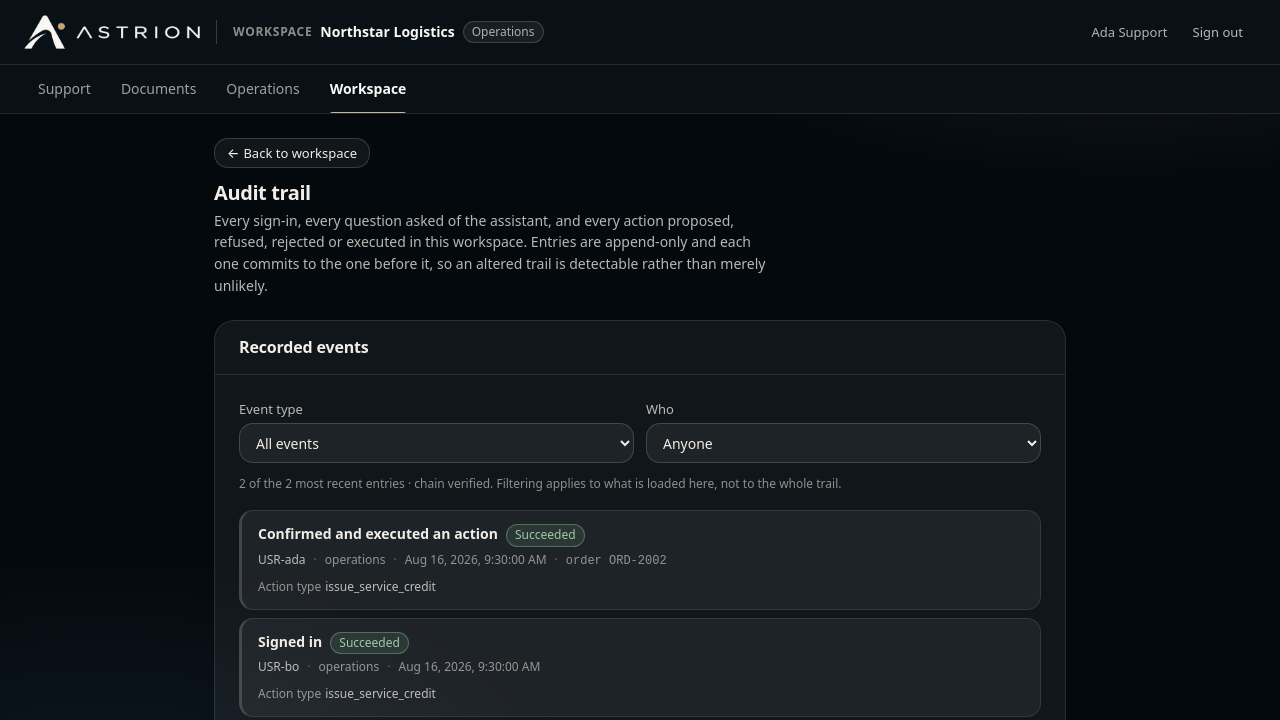
the audit trail › filters by who did it
The image size is (1280, 720).
Check: the text "Confirmed and executed an action" is shown, box [258,523,498,545]
Step 1. Select "USR-bo" in the dropdown labelled "Who" → x=844, y=443, box [646,423,1041,463]
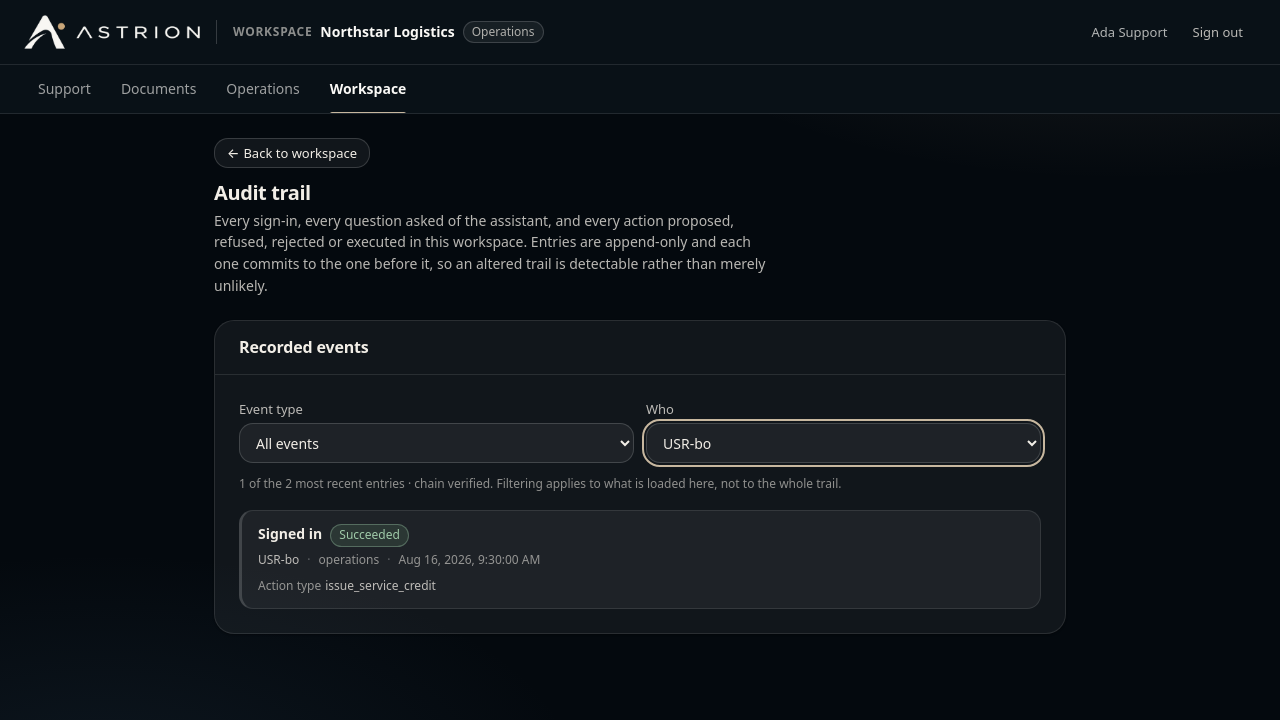
Check: the text "Signed in" is shown, box [258,523,322,545]
Check: the text "Confirmed and executed an action" is gone
